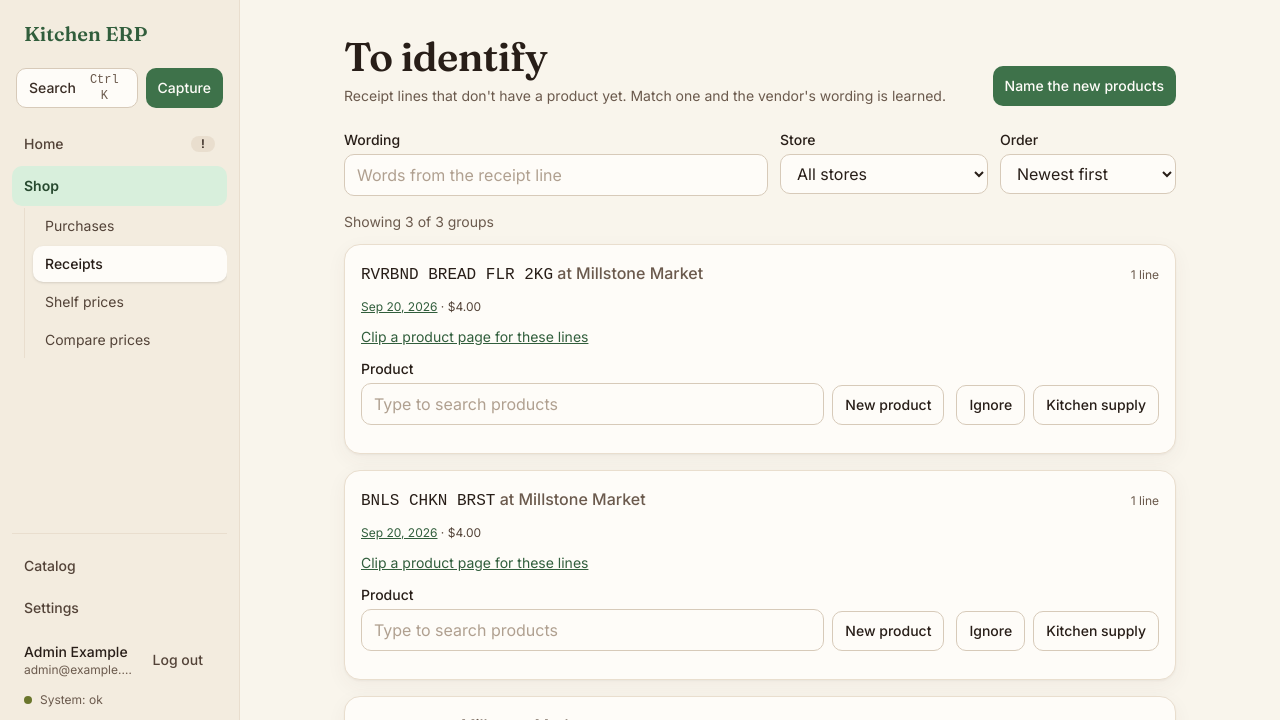
Test: naming new products in bulk › starts each row from the wording, unticked, and creates only the rows a person ticked
The image size is (1280, 720).
Click the button "Name the new products": (1084, 86) [993, 66, 1176, 106]
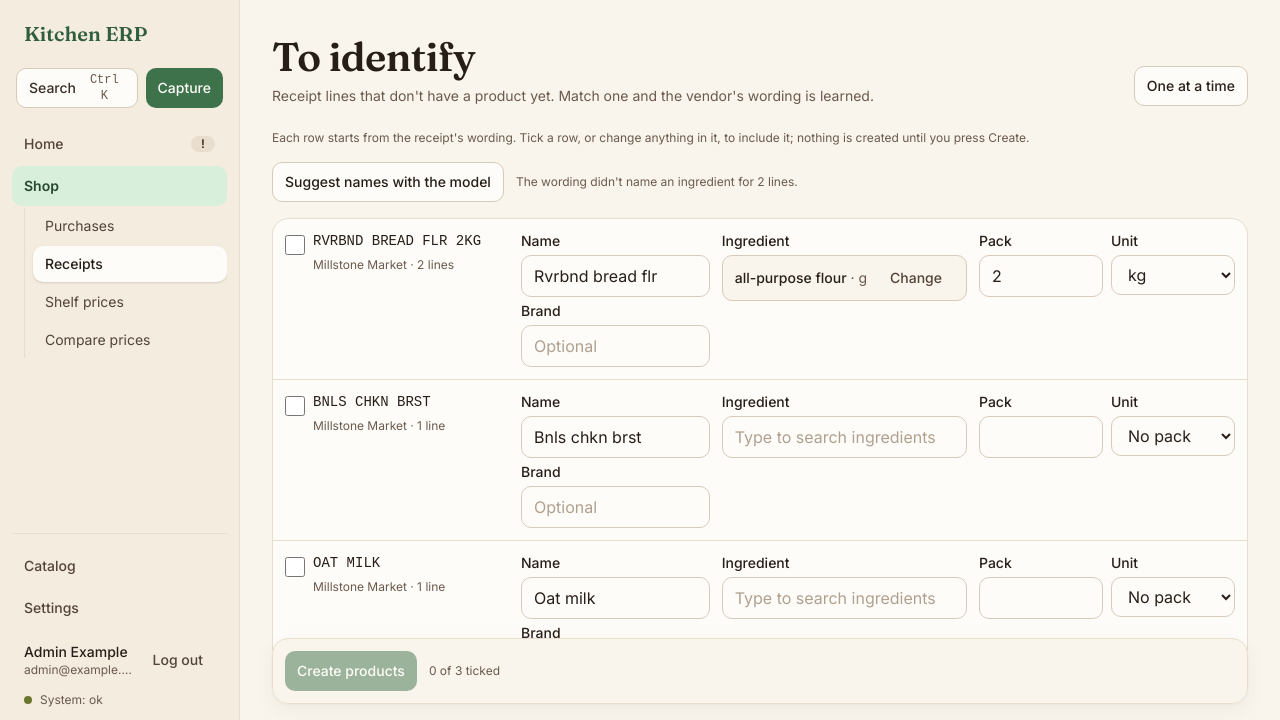
Now the checkbox labelled "RVRBND BREAD FLR 2KG Millstone Market · 2 lines" is not checked
Now the checkbox labelled "BNLS CHKN BRST Millstone Market · 1 line" is not checked, box [285, 396, 305, 416]
Now the checkbox labelled "OAT MILK Millstone Market · 1 line" is not checked, box [285, 557, 305, 577]
// Ticking one row, and editing another, includes exactly those two.
Click the checkbox labelled "RVRBND BREAD FLR 2KG Millstone Market · 2 lines": (295, 245) [285, 235, 305, 255]
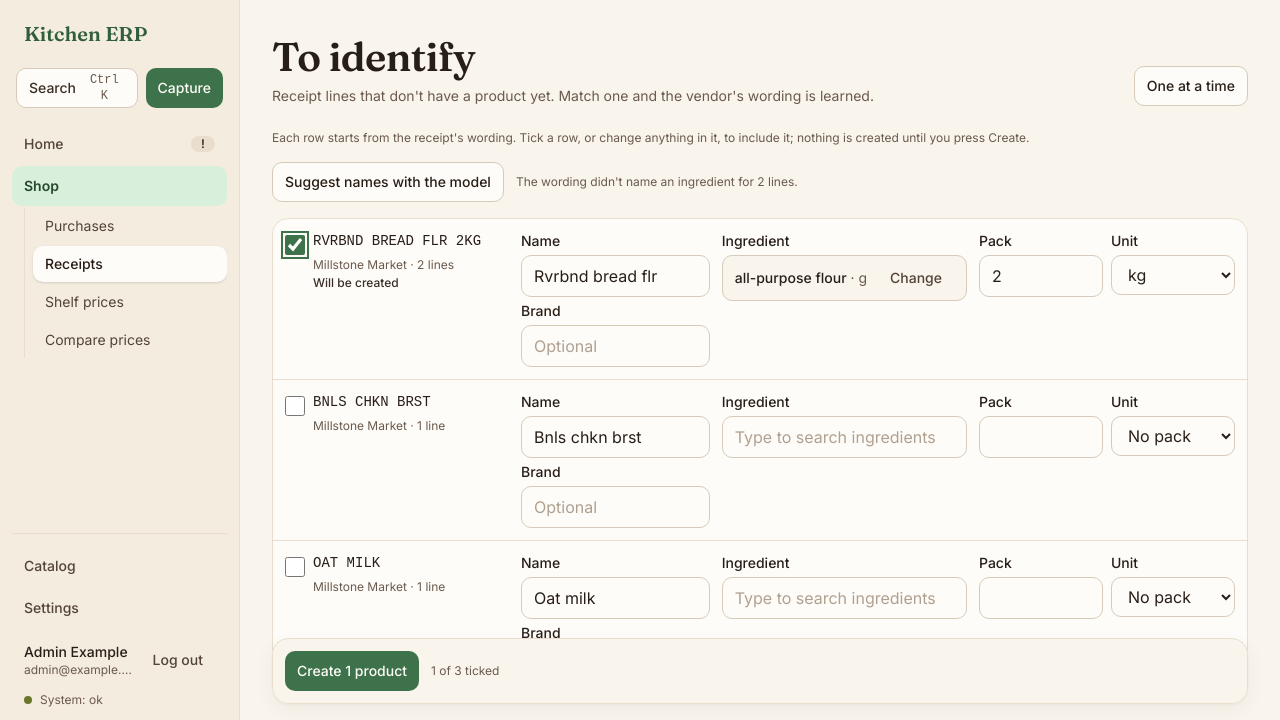
Replace the text in the dropdown labelled "Name" below "BNLS CHKN BRST" with "Chicken breast": (615, 437) [521, 416, 710, 458]
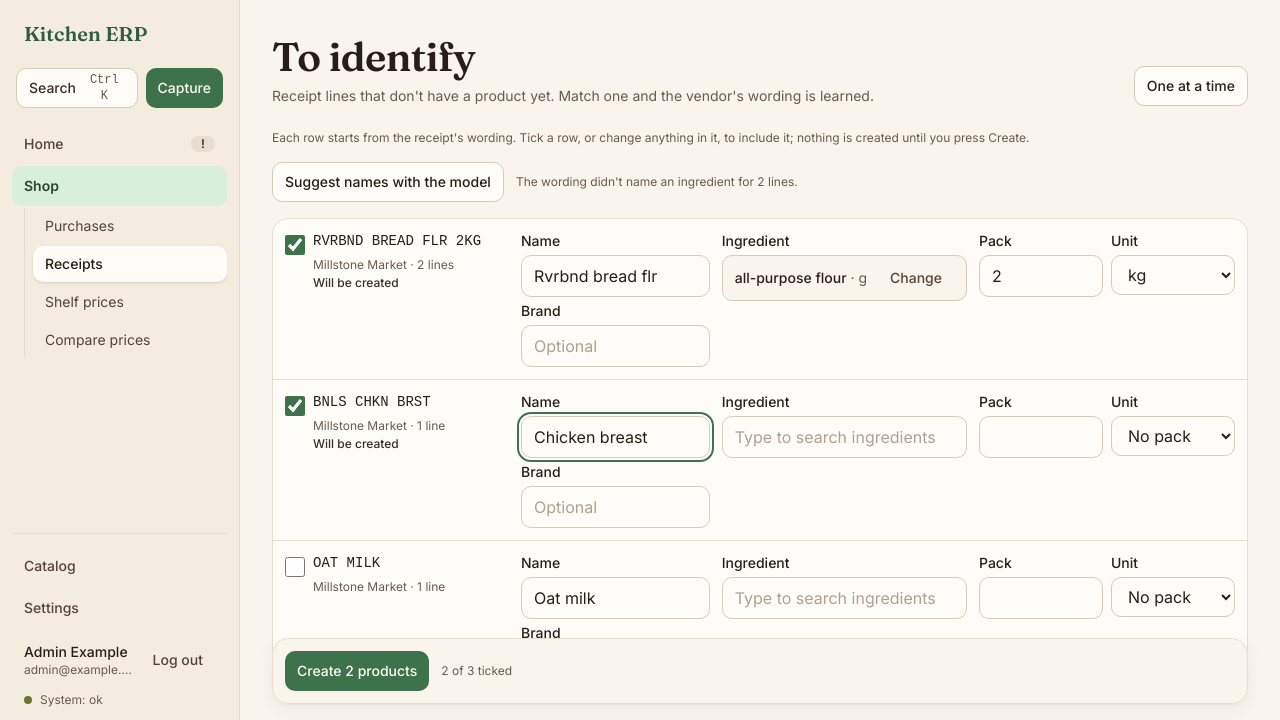
// A ticked row with no ingredient says so and sends nothing.
Click the button "Create 2 products": (357, 671) [285, 651, 429, 691]
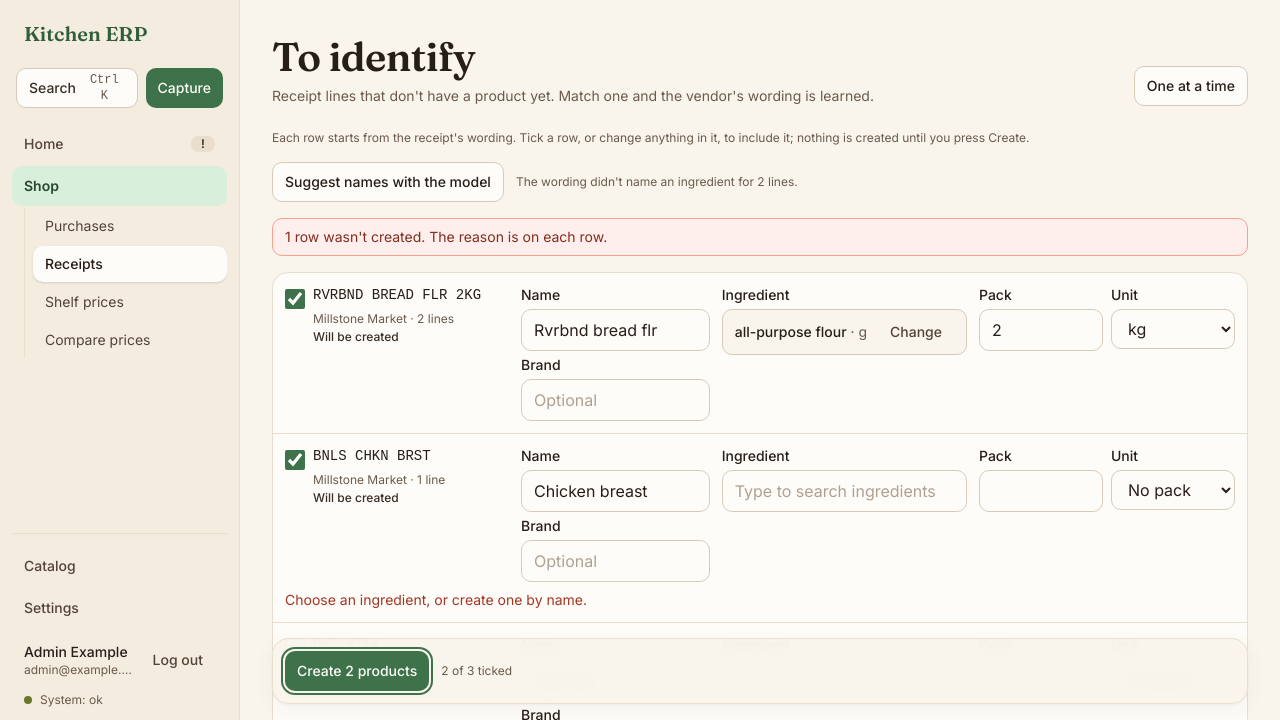
Click the checkbox labelled "BNLS CHKN BRST Millstone Market · 1 line Will be created": (295, 460) [285, 450, 305, 470]
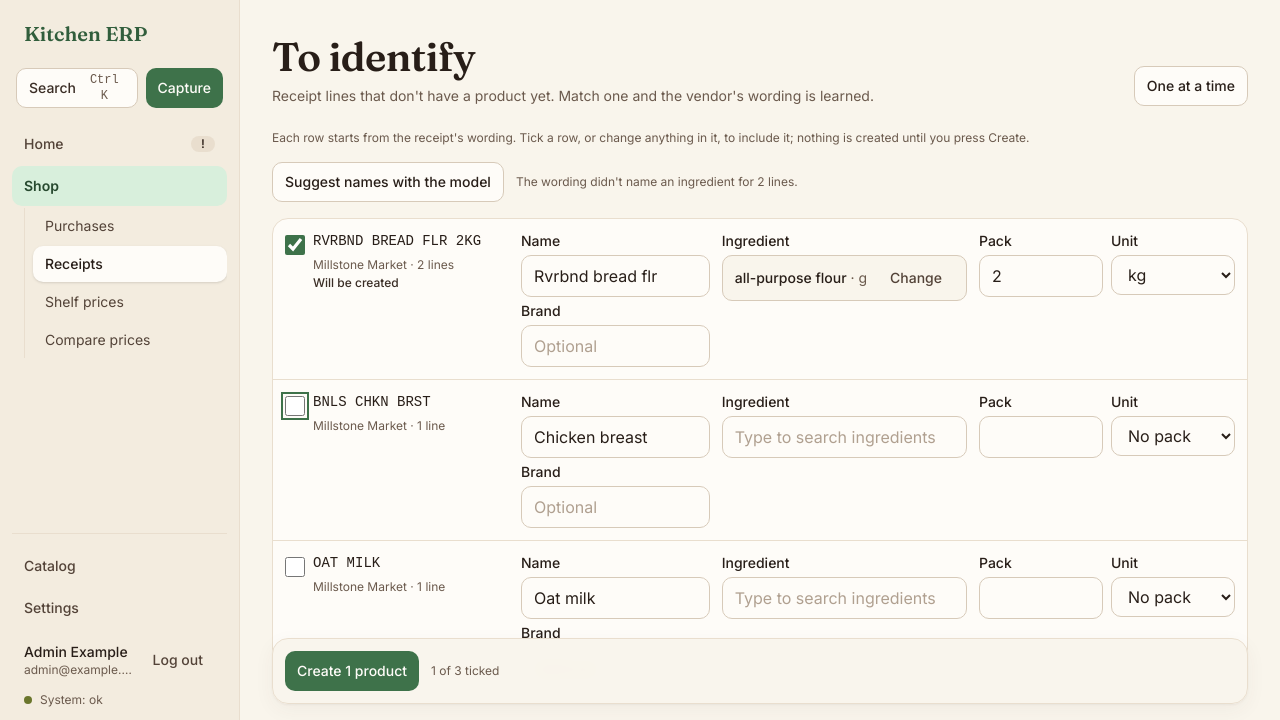
Click the button "Create 1 product": (352, 671) [285, 651, 419, 691]
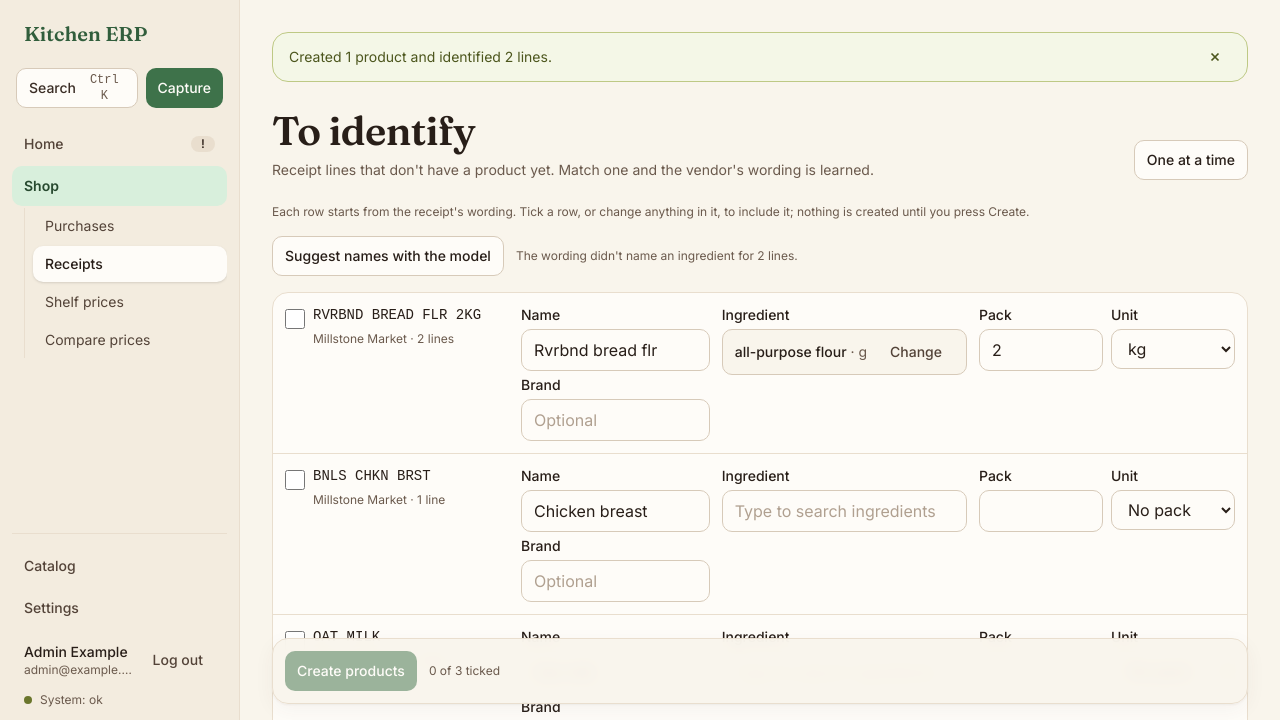
Now the text "Created 1 product and identified 2 lines." is shown, box [289, 47, 552, 67]
